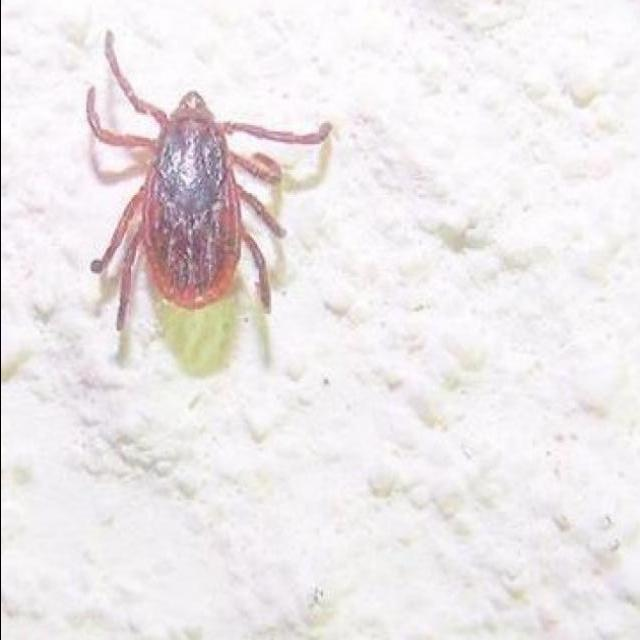Rhipicephalus Sanguineus-F: (84, 30, 334, 333)
